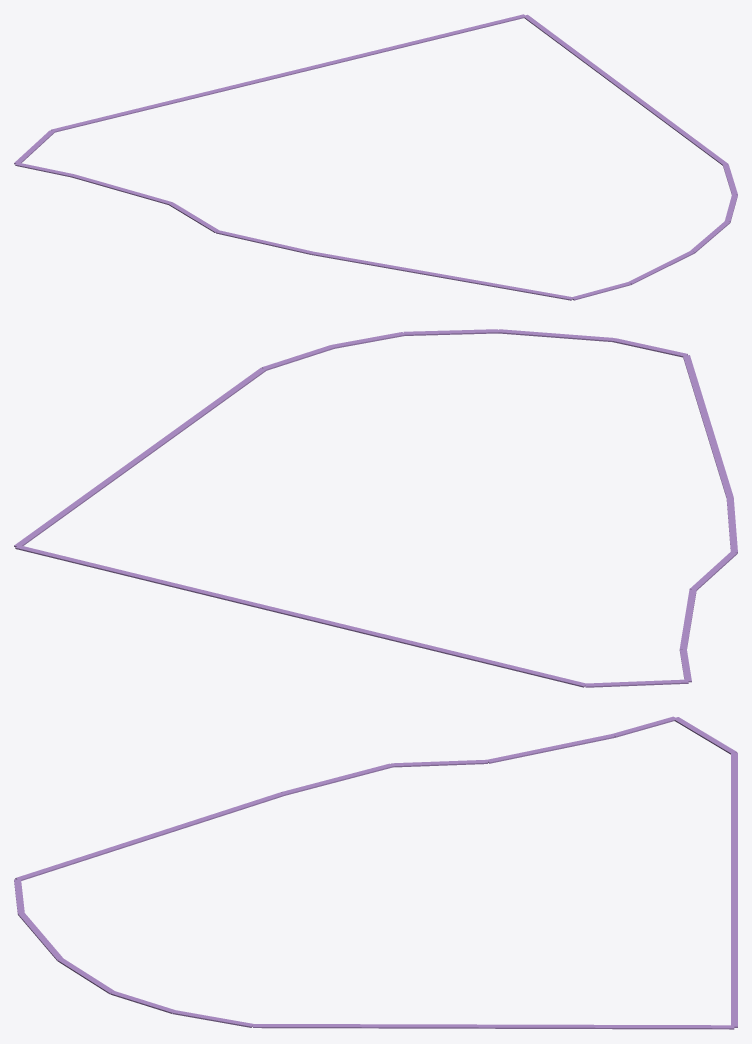
File: pacific-tagore-garden.glb
3 renders of one model, top to bottom at view 1: azimuth 30°, elevation 25°; view 2: azimuth 150°, elevation 25°; view 3: azimuth 270°, elevation 25°, orthographic. The views are drawn at different scales.
Parts seen in each view (by area): view 1: NCR_pacific-tagore-garden; view 2: NCR_pacific-tagore-garden; view 3: NCR_pacific-tagore-garden.
Boxes of the visible parts, x1,y1,x2,y2 form: NCR_pacific-tagore-garden: (14, 14, 737, 300); NCR_pacific-tagore-garden: (14, 329, 737, 687); NCR_pacific-tagore-garden: (14, 716, 737, 1029).
Size of the model in its own units: 208 by 0.4 by 204.
